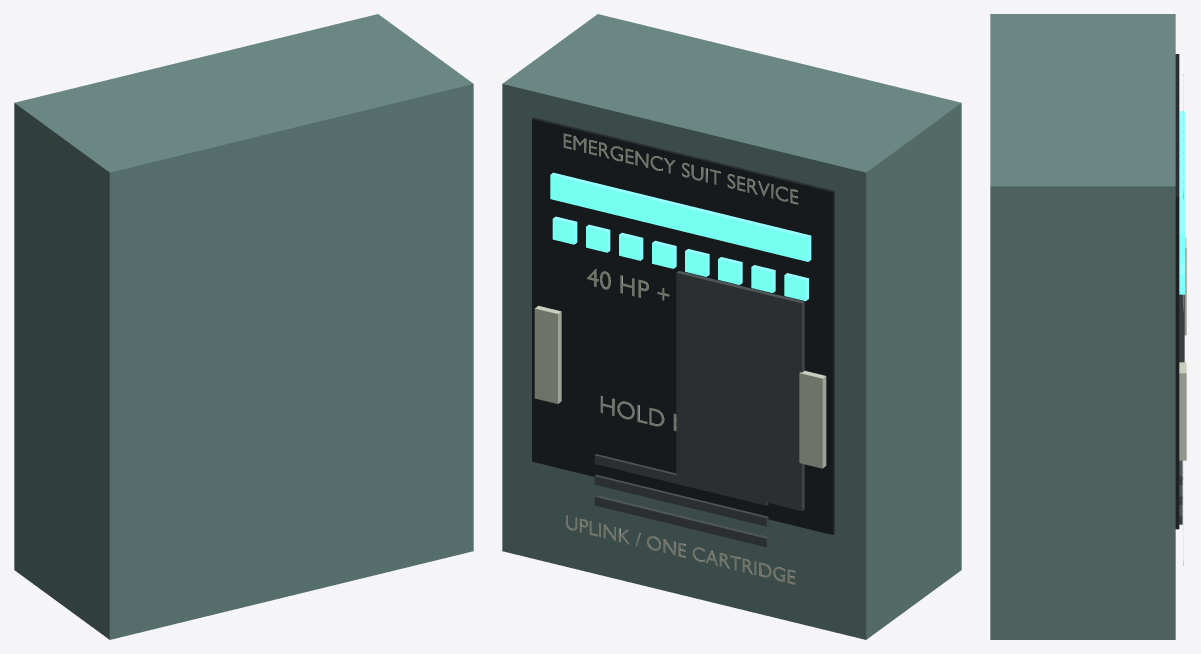
The model's file is suit-service.glb.
3 views of the same model, side by side, from view 1: azimuth 30°, elevation 25°; view 2: azimuth 150°, elevation 25°; view 3: azimuth 270°, elevation 25° (orthographic). The views are drawn at different scales.
Parts seen in each view (by area): view 1: ServiceHousing; view 2: ServiceHousing, Recessed face, Cartridge, ServiceStatus, Captive latch.001, Captive latch, Vent, Vent.001, Authored EMERGENCY SUIT SERVICE, Authored UPLINK / ONE CARTRIDGE, Vent.002; view 3: ServiceHousing, Recessed face, ServiceStatus, Captive latch.001, Cartridge.
Part boxes in pixels (x1,y1,x2,y2): ServiceHousing: (14, 14, 473, 639); ServiceHousing: (502, 14, 961, 639); Recessed face: (532, 117, 834, 534); Cartridge: (676, 271, 804, 510); ServiceStatus: (550, 172, 811, 261); Captive latch.001: (534, 305, 561, 403); Captive latch: (799, 371, 826, 468); Vent: (594, 495, 768, 547); Vent.001: (594, 475, 768, 526); Authored EMERGENCY SUIT SERVICE: (563, 133, 798, 204); Authored UPLINK / ONE CARTRIDGE: (566, 515, 795, 584); Vent.002: (594, 454, 768, 505); ServiceHousing: (990, 14, 1175, 639); Recessed face: (1175, 54, 1179, 529); ServiceStatus: (1179, 111, 1185, 256); Captive latch.001: (1179, 362, 1186, 460); Cartridge: (1179, 294, 1184, 362).
Bounding box in the file's own units: 1.1 × 1.35 × 0.5295.
